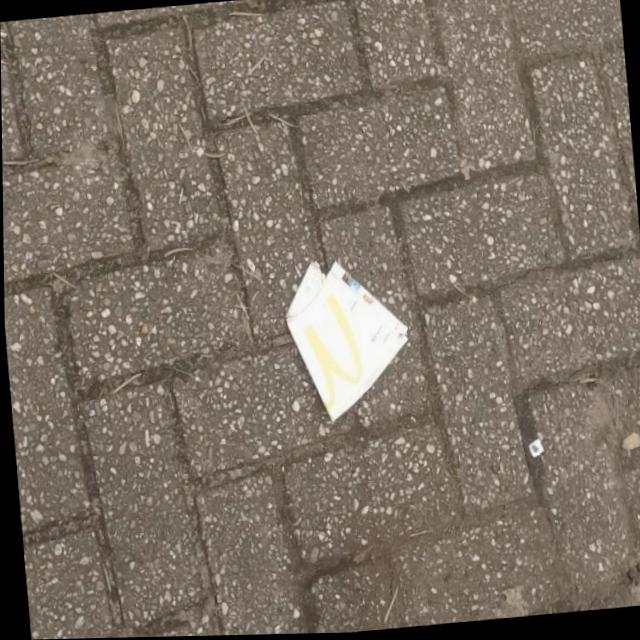Cup: (282, 248, 415, 439)
